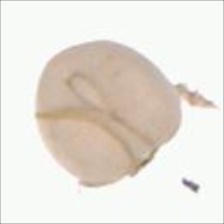L5: (66, 68, 153, 164), (81, 136, 174, 193)
L6: (32, 37, 184, 188)
